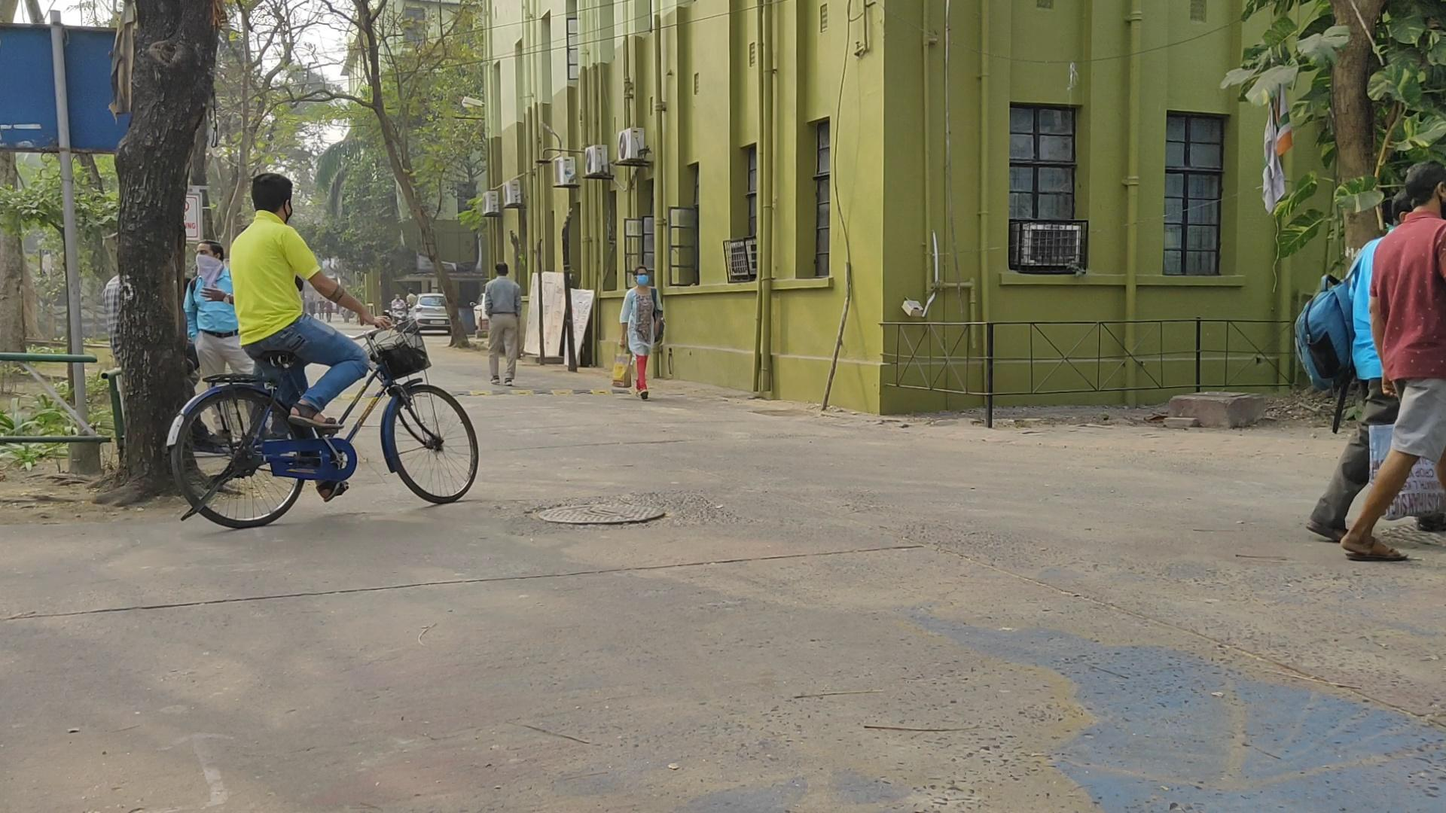bike: (171, 175, 477, 526)
car: (406, 293, 453, 336)
